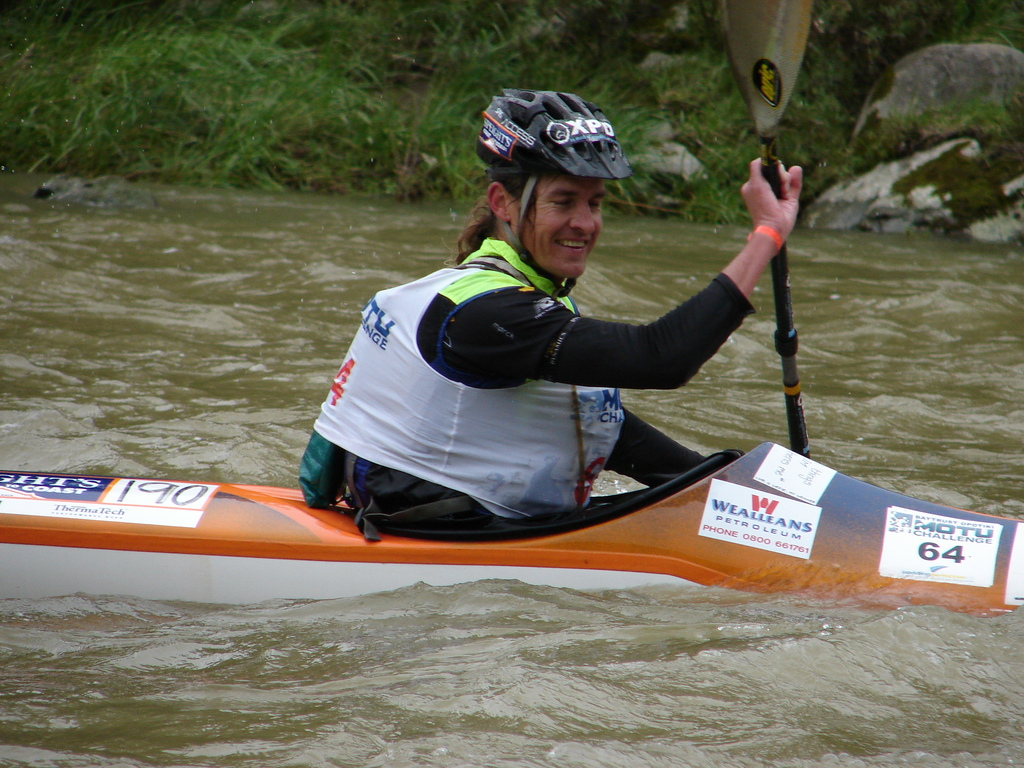Person: (296, 86, 805, 541)
